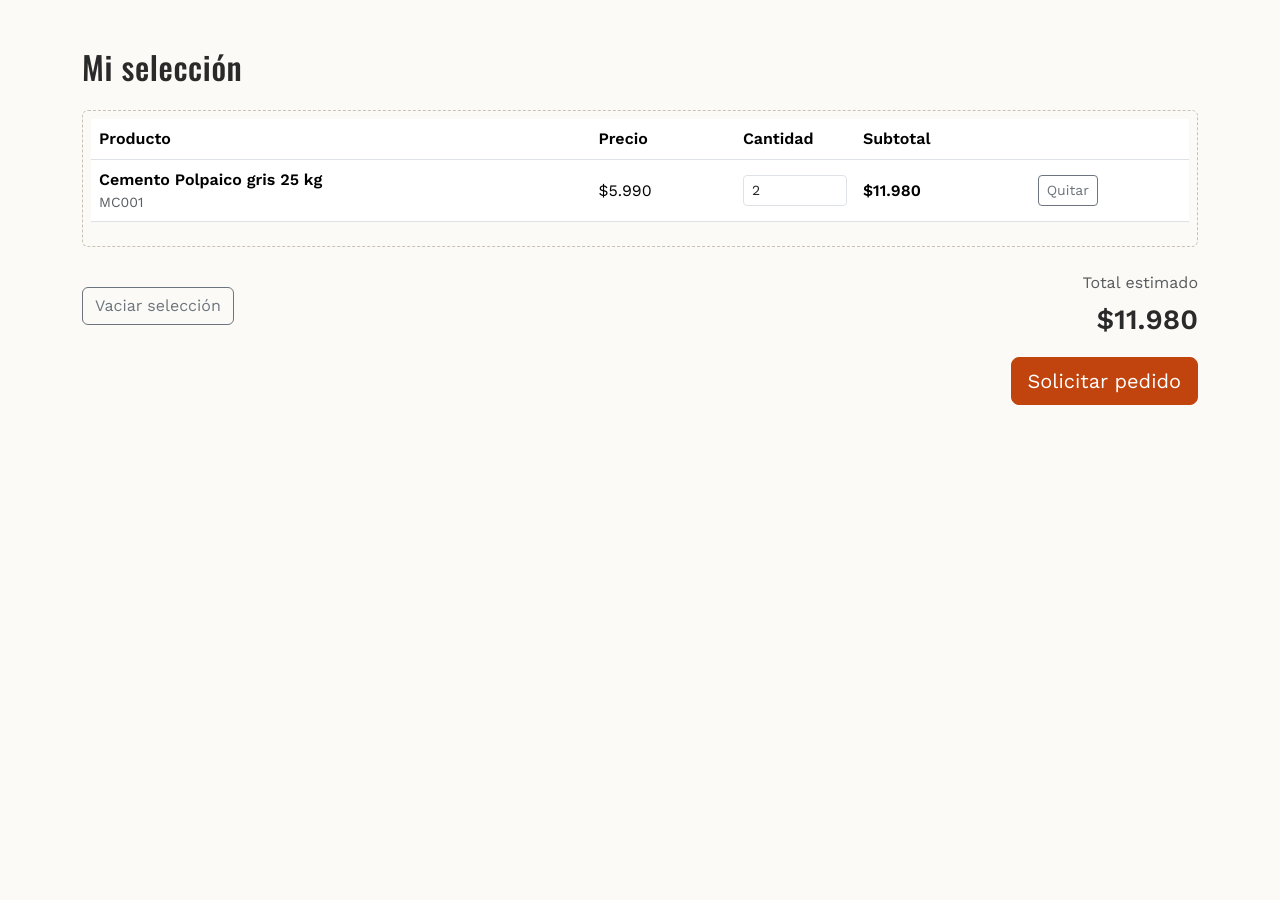
Test: flujo de solicitud del carrito › precarga los datos de dirección y contacto del usuario con sesión
Click the button "Solicitar pedido". click: (1104, 381)
box: [1010,357,1198,405]
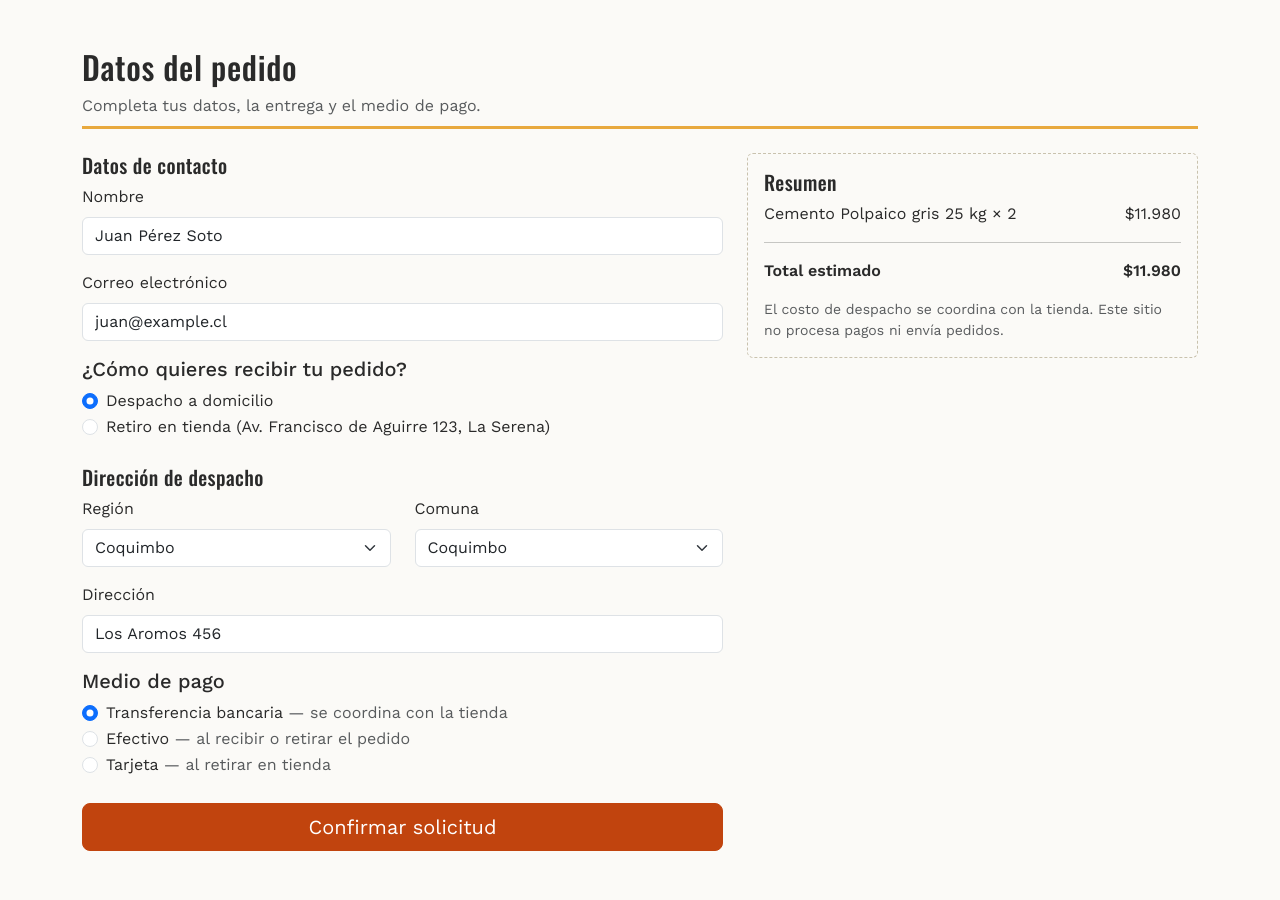
Result: the field labelled "Nombre" holds "Juan Pérez Soto" at [82,217,723,255]
Result: the field labelled "Correo electrónico" holds "juan@example.cl" at [82,303,723,341]
Result: the dropdown labelled "Región" shows "Coquimbo" at [82,529,390,567]
